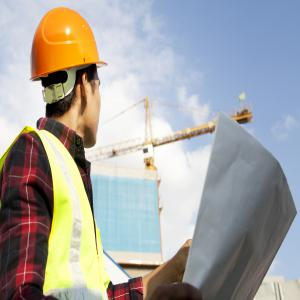yellow: (28, 6, 105, 152)
